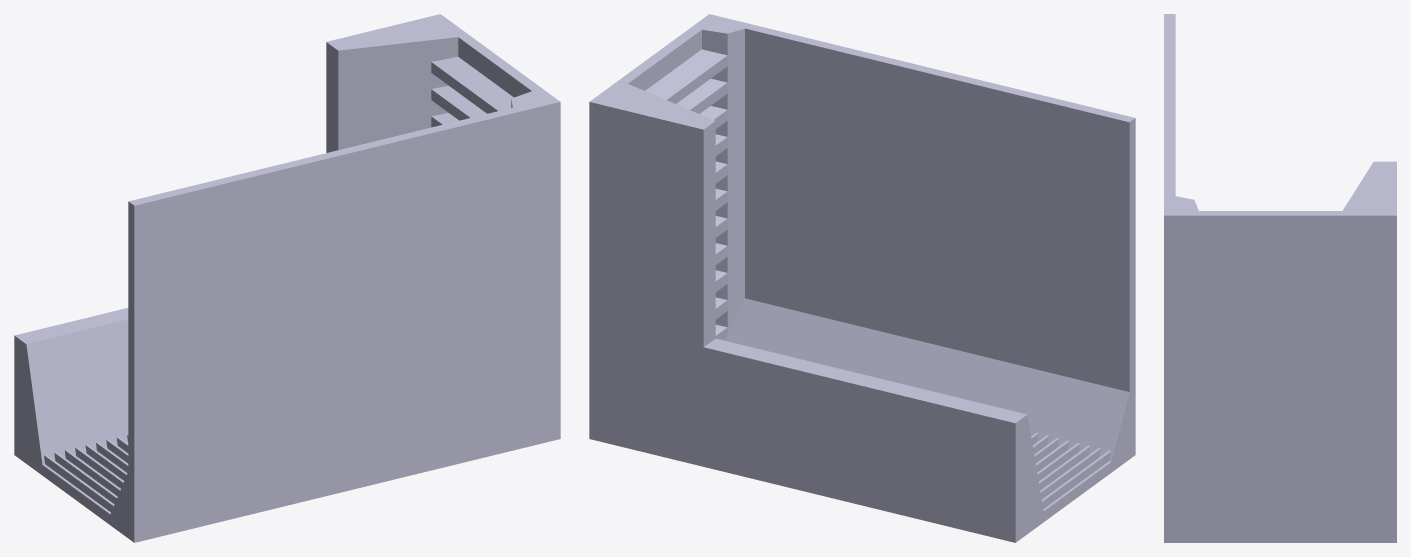
Rendered from CAD_porao_v1.dae.
3 views of the same model, side by side, from view 1: azimuth 30°, elevation 25°; view 2: azimuth 150°, elevation 25°; view 3: azimuth 270°, elevation 25° (orthographic). The views are drawn at different scales.
Visible parts, largest first — view 1: node0; view 2: node0; view 3: node0.
Boxes of the visible parts, x1,y1,x2,y2 form: node0: (14,14,560,542); node0: (589,14,1135,542); node0: (1164,14,1396,542).
Bounding box in the file's own units: 41 × 20 × 31.
